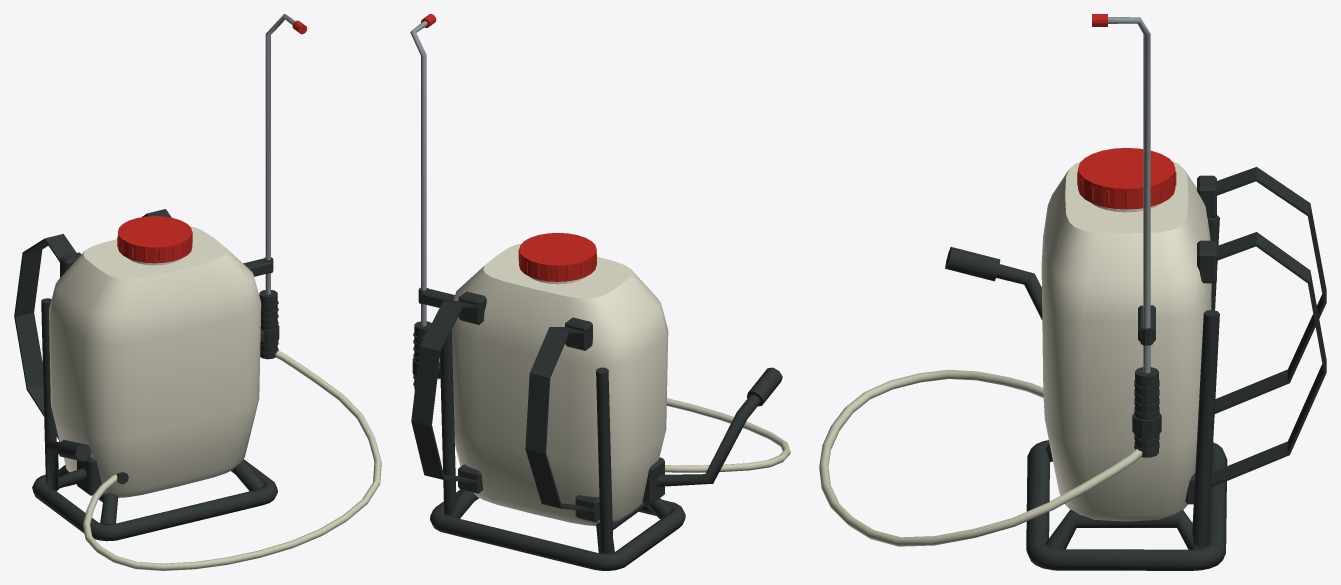
The model's file is A-NEW-20261026-BACKPACK-SPRAYER-001_LOD2_R2.glb.
3 views of the same model, side by side, from view 1: azimuth 30°, elevation 25°; view 2: azimuth 150°, elevation 25°; view 3: azimuth 270°, elevation 25° (orthographic). The views are drawn at different scales.
Visible parts, largest first — view 1: closed tapered tank, closed tubular ground frame, flexible hose, independent shoulder strap -1, red screw cap, slim spray wand, back frame upright -1, bent manual pump lever, wand ribbed grip, pump lever lower mount, tank support rail -1, lever hand grip (+1 smaller); view 2: closed tapered tank, closed tubular ground frame, independent shoulder strap -1, independent shoulder strap 1, red screw cap, back frame upright -1, back frame upright 1, flexible hose, bent manual pump lever, slim spray wand, upper strap tab -1, lever hand grip (+5 smaller); view 3: closed tapered tank, closed tubular ground frame, flexible hose, red screw cap, back frame upright 1, independent shoulder strap 1, independent shoulder strap -1, slim spray wand, tank support rail 1, wand ribbed grip, lever hand grip, bent manual pump lever (+2 smaller).
Part boxes in pixels (x1,y1,x2,y2): closed tapered tank: (49, 226, 261, 497); closed tubular ground frame: (32, 459, 277, 541); flexible hose: (83, 350, 381, 570); independent shoulder strap -1: (14, 234, 76, 439); red screw cap: (118, 216, 192, 263); slim spray wand: (265, 14, 295, 294); back frame upright -1: (41, 298, 56, 482); bent manual pump lever: (46, 440, 86, 490); wand ribbed grip: (259, 290, 277, 359); pump lever lower mount: (77, 457, 101, 495); tank support rail -1: (45, 465, 117, 524); lever hand grip: (57, 439, 91, 461); closed tapered tank: (451, 243, 668, 525); closed tubular ground frame: (430, 489, 685, 570); independent shoulder strap -1: (525, 327, 595, 511); independent shoulder strap 1: (411, 301, 478, 483); red screw cap: (519, 233, 596, 281); back frame upright -1: (596, 367, 613, 553); back frame upright 1: (440, 331, 456, 515); flexible hose: (437, 378, 790, 472); bent manual pump lever: (656, 394, 760, 486); slim spray wand: (410, 21, 427, 326); upper strap tab -1: (565, 317, 592, 350); lever hand grip: (747, 367, 782, 406); closed tapered tank: (1041, 161, 1211, 521); closed tubular ground frame: (1026, 440, 1227, 570); flexible hose: (819, 369, 1142, 546); red screw cap: (1078, 148, 1175, 209); back frame upright 1: (1192, 310, 1219, 547); independent shoulder strap 1: (1210, 232, 1326, 487); independent shoulder strap -1: (1214, 167, 1326, 413); slim spray wand: (1108, 17, 1150, 373); tank support rail 1: (1045, 510, 1207, 549); wand ribbed grip: (1135, 367, 1158, 457); lever hand grip: (945, 247, 1000, 281); bent manual pump lever: (996, 264, 1042, 320).
Size of the model in its own units: 0.581 by 0.798 by 0.6262.
